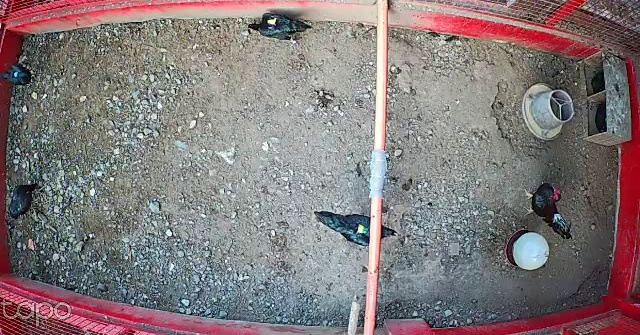Chicken: (309, 205, 398, 248), (244, 8, 317, 48), (0, 55, 41, 92), (7, 182, 41, 221)
Drinker: (506, 229, 550, 270)
Feeder: (522, 80, 575, 140)
Rooster: (521, 181, 576, 240)
Saddle_Color_Blue: (12, 71, 20, 78)
Saddle_Color_Yellow: (268, 17, 279, 26)
Saddle_Color_YellowGreen: (356, 225, 370, 234)
